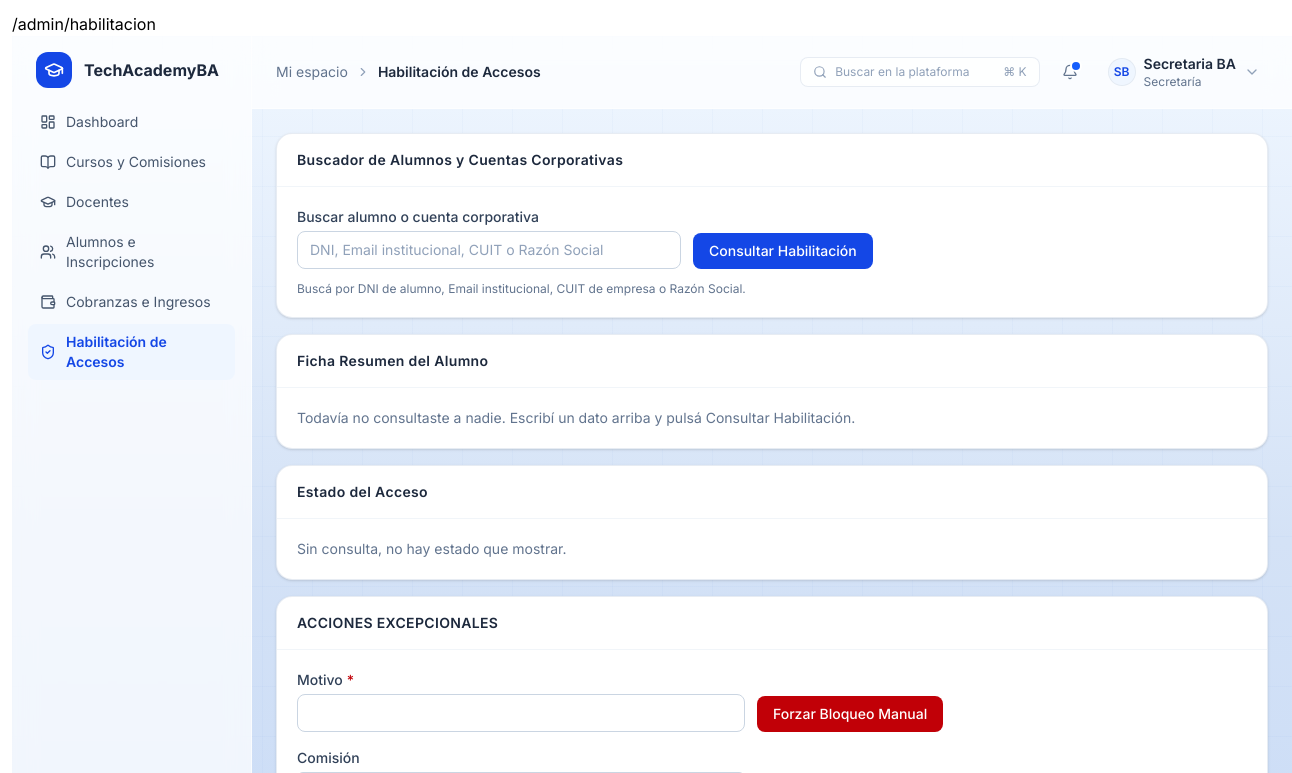
Test: consulta de un alumno › busca una cuenta corporativa por CUIT
This screenshot has width=1292, height=773.
Expected: the heading "Buscador de Alumnos y Cuentas Corporativas" is shown, [297,150,623,170]
Type "30-71665544-9" into the field labelled "Buscar alumno o cuenta corporativa".
click(489, 250); type("30-71665544-9")  # box [297,231,681,269]
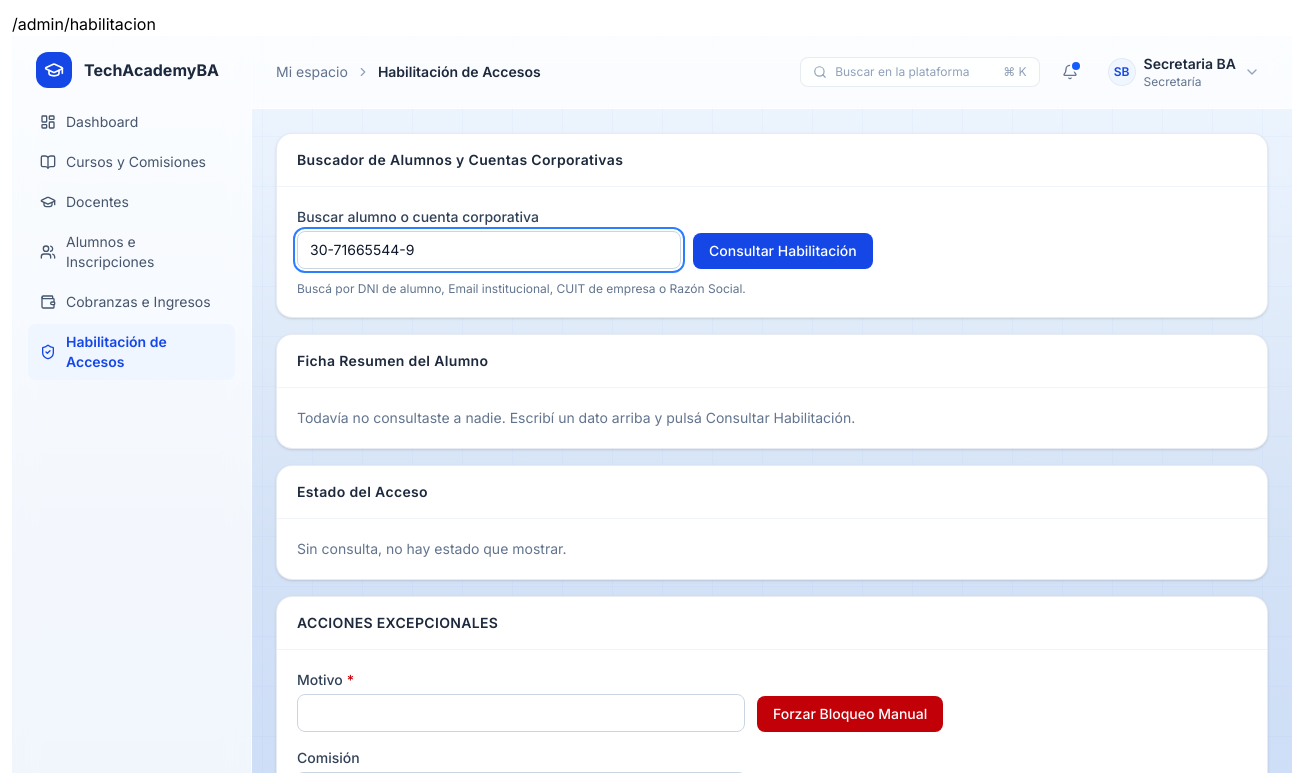
Click the button "Consultar Habilitación".
click(783, 251)  # box [693,233,873,269]
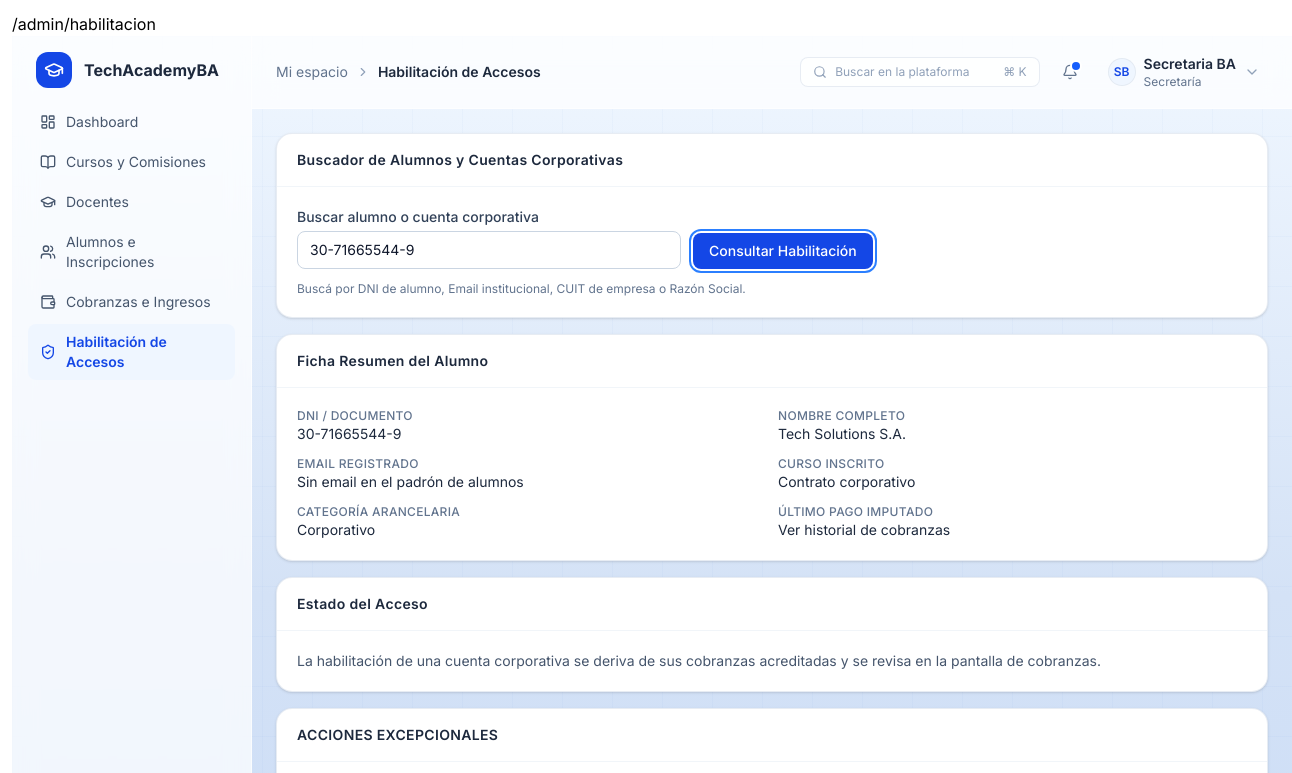
Expected: the text "Tech Solutions S.A." is shown, [778,425,906,442]
Expected: the text "Contrato corporativo" is shown, [778,473,915,490]
